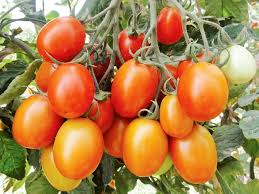tomato: (178, 53, 227, 117), (47, 117, 95, 174), (172, 131, 217, 184), (52, 58, 91, 117), (113, 57, 152, 112), (129, 117, 167, 171), (35, 21, 85, 62), (155, 2, 193, 40)
